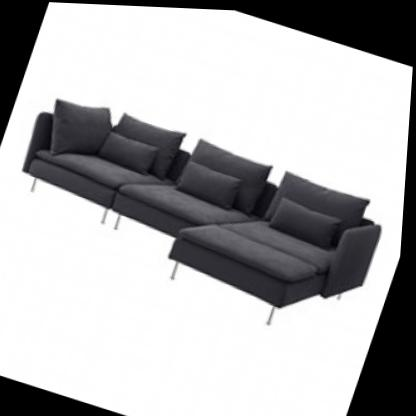Sofa: (0, 55, 413, 363)
